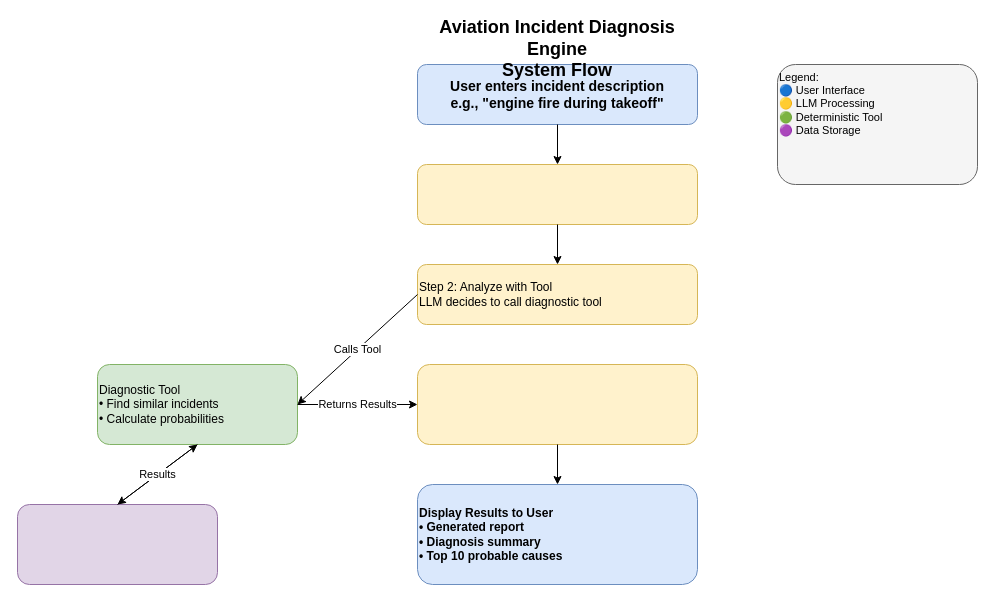
Image size: 995x602. Some labels were removed from this diagram. Here are the shapes that lost their labels. From the top down, the centre of each, then its label:
At (x=557, y=194): "Step 1: Generate Report LLM creates detailed incident synopsis".
At (x=557, y=404): "Step 3: Synthesize Results LLM interprets tool results and creates summary".
At (x=117, y=544): "Historical NTSB Database Pre-computed embeddings of incident reports".
